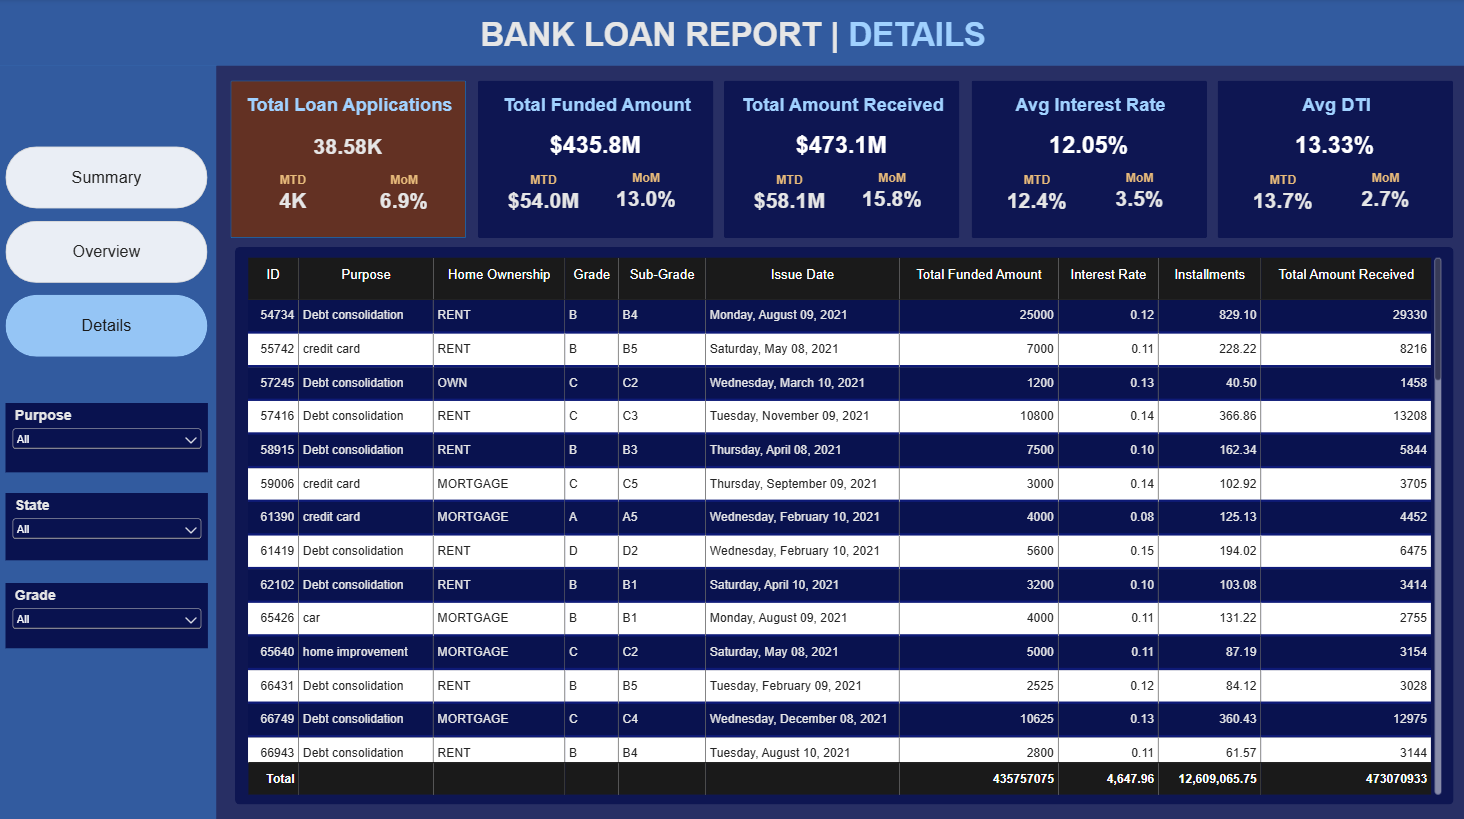

This screenshot's page, from the dashboard's own definition file:
{"tool":"powerbi","page":{"name":"Details","canvas":[1920,1080],"ordinal":2},"visuals":[{"type":"shape","box":[0,0,1919.3,88.6],"z":0},{"type":"group","id":"g1","title":"Group 1","box":[626.2,108.3,308,206],"z":0,"group":"g4"},{"type":"shape","box":[949.1,108.3,308,206],"z":0,"group":"g3"},{"type":"shape","box":[1272,108.3,308,206],"z":0,"group":"g5"},{"type":"shape","box":[1594.1,108.3,308,206],"z":0,"group":"g6"},{"type":"shape","box":[0,88.3,285.5,991.6],"z":1000},{"type":"group","id":"g2","title":"Group 1","box":[303.3,108.3,308,206],"z":1000,"group":"g4"},{"type":"cardVisual","fields":{"Data":["bank_loan.Total Amount Received"]},"box":[949.1,162.7,308,59.2],"z":1000,"group":"g3"},{"type":"cardVisual","fields":{"Data":["bank_loan.Avg Interest Rate"]},"box":[1272,162.7,308,59.2],"z":1000,"group":"g5"},{"type":"cardVisual","fields":{"Data":["bank_loan.Avg DTI"]},"box":[1594.1,162.7,308,59.2],"z":1000,"group":"g6"},{"type":"textbox","box":[472.4,22.7,976.7,65.9],"z":2000},{"type":"group","id":"g3","title":"Group 1","box":[949.1,108.3,308,206],"z":2000,"group":"g4"},{"type":"cardVisual","fields":{"Data":["bank_loan.MTD Total Amount Recieved"]},"box":[967.3,212,136.1,85.2],"z":2000,"group":"g3"},{"type":"cardVisual","fields":{"Data":["bank_loan.MTD Avg Int Rate"]},"box":[1290.2,212,136.1,85.2],"z":2000,"group":"g5"},{"type":"cardVisual","fields":{"Data":["bank_loan.MTD Avg DTI"]},"box":[1612.3,212,136.1,85.2],"z":2000,"group":"g6"},{"type":"shape","box":[303.3,108.3,308,206],"z":2500,"group":"g2"},{"type":"shape","box":[626.2,108.3,308,206],"z":2500,"group":"g1"},{"type":"group","id":"g4","title":"Group 2","box":[303.3,108.3,1600,950],"z":3000},{"type":"group","id":"g5","title":"Group 1","box":[1272,108.3,308,206],"z":3000,"group":"g4"},{"type":"cardVisual","fields":{"Data":["bank_loan.Total Loan Applications"]},"box":[303.3,162.7,308,59.2],"z":3000,"group":"g2"},{"type":"cardVisual","fields":{"Data":["bank_loan.Total Funded Amount"]},"box":[626.2,162.7,308,59.2],"z":3000,"group":"g1"},{"type":"group","id":"g6","title":"Group 1","box":[1594.1,108.3,308,206],"z":4000,"group":"g4"},{"type":"cardVisual","fields":{"Data":["bank_loan.MTD Funded Amount"]},"box":[644.4,212,136.1,85.2],"z":4000,"group":"g1"},{"type":"cardVisual","fields":{"Data":["bank_loan.MoM Total Amount Recieved"]},"box":[1105.8,212,126.5,85.2],"z":4000,"group":"g3"},{"type":"cardVisual","fields":{"Data":["bank_loan.MoM Avg Int Rate"]},"box":[1428.7,212,126.5,85.2],"z":4000,"group":"g5"},{"type":"cardVisual","fields":{"Data":["bank_loan.MoM Avg DTI"]},"box":[1750.8,212,126.5,85.2],"z":4000,"group":"g6"},{"type":"cardVisual","fields":{"Data":["bank_loan.MTD Loan Applications"]},"box":[322.4,212.5,124.1,85.2],"z":4000,"group":"g2"},{"type":"slicer","fields":{"Values":["bank_loan.grade"]},"box":[10,764.3,264.8,85.7],"z":4000,"group":"g7"},{"type":"textbox","box":[969.7,126.7,272.2,45],"z":5000,"group":"g3"},{"type":"textbox","box":[1292.6,126.7,272.2,45],"z":5000,"group":"g5"},{"type":"textbox","box":[1614.7,126.7,272.2,45],"z":5000,"group":"g6"},{"type":"shape","box":[309.8,326.6,1593.5,729.1],"z":5000,"group":"g4"},{"type":"slicer","fields":{"Values":["bank_loan.address_state"]},"box":[10,648.3,264.8,88.3],"z":5000,"group":"g7"},{"type":"pageNavigator","box":[10.4,194.7,264.8,277.8],"z":6000},{"type":"cardVisual","fields":{"Data":["bank_loan.MoM Total Funded Amount"]},"box":[782.9,212,126.5,85.2],"z":6000,"group":"g1"},{"type":"cardVisual","fields":{"Data":["bank_loan.MoM Loan Applications"]},"box":[475.2,212.5,109.8,85.2],"z":6000,"group":"g2"},{"type":"tableEx","fields":{"Values":["bank_loan.id","bank_loan.purpose","bank_loan.home_ownership","bank_loan.grade","bank_loan.sub_grade","bank_loan.issue_date","bank_loan.Total Funded Amount","Sum(bank_loan.int_rate)","Sum(bank_loan.installment)","bank_loan.Total Amount Received"]},"box":[309.8,326.6,1593.5,731.7],"z":6000,"group":"g4"},{"type":"textbox","box":[323.9,126.7,272.2,45],"z":7000,"group":"g2"},{"type":"textbox","box":[646.8,126.7,272.2,45],"z":7000,"group":"g1"},{"type":"slicer","fields":{"Values":["bank_loan.purpose"]},"box":[10,529.8,264.8,90.9],"z":7000,"group":"g7"},{"type":"group","id":"g7","title":"Group 3","box":[10,529.8,264.9,319.1],"z":7001}]}

Visuals, with their boxes in screenshot pixels (x1, y1, x2, y2), scaled from the page's 1920x1080 canvas onto the 1464x819 screenshot:
shape: pyautogui.locateOnScreen(0, 0, 1463, 67)
"Group 1" group: pyautogui.locateOnScreen(477, 82, 712, 238)
shape: pyautogui.locateOnScreen(724, 82, 959, 238)
shape: pyautogui.locateOnScreen(970, 82, 1205, 238)
shape: pyautogui.locateOnScreen(1216, 82, 1450, 238)
shape: pyautogui.locateOnScreen(0, 67, 218, 818)
"Group 1" group: pyautogui.locateOnScreen(231, 82, 466, 238)
cardVisual - bank_loan.Total Amount Received: pyautogui.locateOnScreen(724, 123, 959, 168)
cardVisual - bank_loan.Avg Interest Rate: pyautogui.locateOnScreen(970, 123, 1205, 168)
cardVisual - bank_loan.Avg DTI: pyautogui.locateOnScreen(1216, 123, 1450, 168)
textbox: pyautogui.locateOnScreen(360, 17, 1105, 67)
"Group 1" group: pyautogui.locateOnScreen(724, 82, 959, 238)
cardVisual - bank_loan.MTD Total Amount Recieved: pyautogui.locateOnScreen(738, 161, 841, 225)
cardVisual - bank_loan.MTD Avg Int Rate: pyautogui.locateOnScreen(984, 161, 1088, 225)
cardVisual - bank_loan.MTD Avg DTI: pyautogui.locateOnScreen(1229, 161, 1333, 225)
shape: pyautogui.locateOnScreen(231, 82, 466, 238)
shape: pyautogui.locateOnScreen(477, 82, 712, 238)
"Group 2" group: pyautogui.locateOnScreen(231, 82, 1451, 803)
"Group 1" group: pyautogui.locateOnScreen(970, 82, 1205, 238)
cardVisual - bank_loan.Total Loan Applications: pyautogui.locateOnScreen(231, 123, 466, 168)
cardVisual - bank_loan.Total Funded Amount: pyautogui.locateOnScreen(477, 123, 712, 168)
"Group 1" group: pyautogui.locateOnScreen(1216, 82, 1450, 238)
cardVisual - bank_loan.MTD Funded Amount: pyautogui.locateOnScreen(491, 161, 595, 225)
cardVisual - bank_loan.MoM Total Amount Recieved: pyautogui.locateOnScreen(843, 161, 940, 225)
cardVisual - bank_loan.MoM Avg Int Rate: pyautogui.locateOnScreen(1089, 161, 1186, 225)
cardVisual - bank_loan.MoM Avg DTI: pyautogui.locateOnScreen(1335, 161, 1431, 225)
cardVisual - bank_loan.MTD Loan Applications: pyautogui.locateOnScreen(246, 161, 340, 226)
slicer - bank_loan.grade: pyautogui.locateOnScreen(8, 580, 210, 645)
textbox: pyautogui.locateOnScreen(739, 96, 947, 130)
textbox: pyautogui.locateOnScreen(986, 96, 1193, 130)
textbox: pyautogui.locateOnScreen(1231, 96, 1439, 130)
shape: pyautogui.locateOnScreen(236, 248, 1451, 801)
slicer - bank_loan.address_state: pyautogui.locateOnScreen(8, 492, 210, 559)
pageNavigator: pyautogui.locateOnScreen(8, 148, 210, 358)
cardVisual - bank_loan.MoM Total Funded Amount: pyautogui.locateOnScreen(597, 161, 693, 225)
cardVisual - bank_loan.MoM Loan Applications: pyautogui.locateOnScreen(362, 161, 446, 226)
tableEx - bank_loan.id x bank_loan.purpose: pyautogui.locateOnScreen(236, 248, 1451, 803)
textbox: pyautogui.locateOnScreen(247, 96, 455, 130)
textbox: pyautogui.locateOnScreen(493, 96, 701, 130)
slicer - bank_loan.purpose: pyautogui.locateOnScreen(8, 402, 210, 471)
"Group 3" group: pyautogui.locateOnScreen(8, 402, 210, 644)
